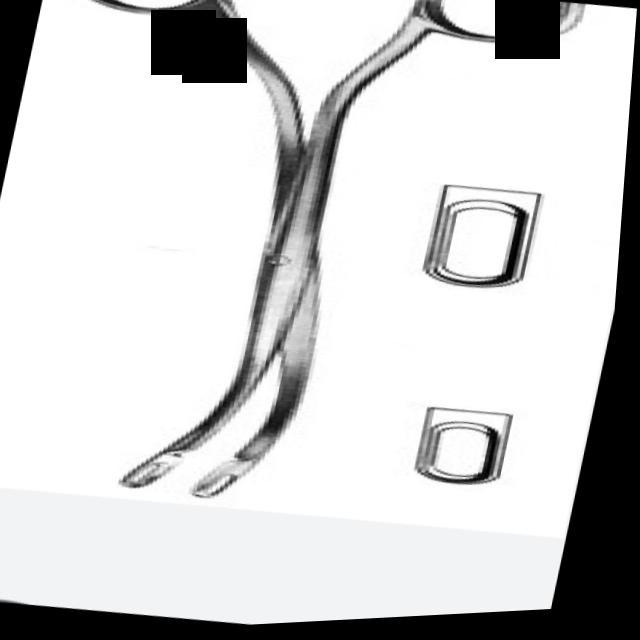Desjardin Forceps: (0, 0, 617, 558)
